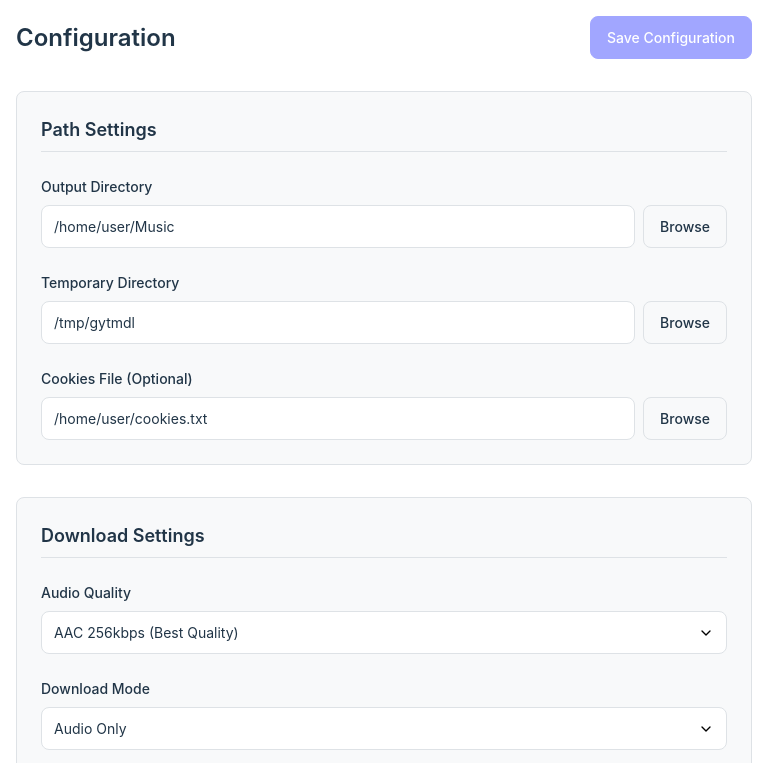
Scenario: ConfigEditor Component › shows success message after saving
Note: Make a change and save
Replace the text in the field showing "/home/user/Music" with "/new/path" at (338, 226), box [41,205,635,248]
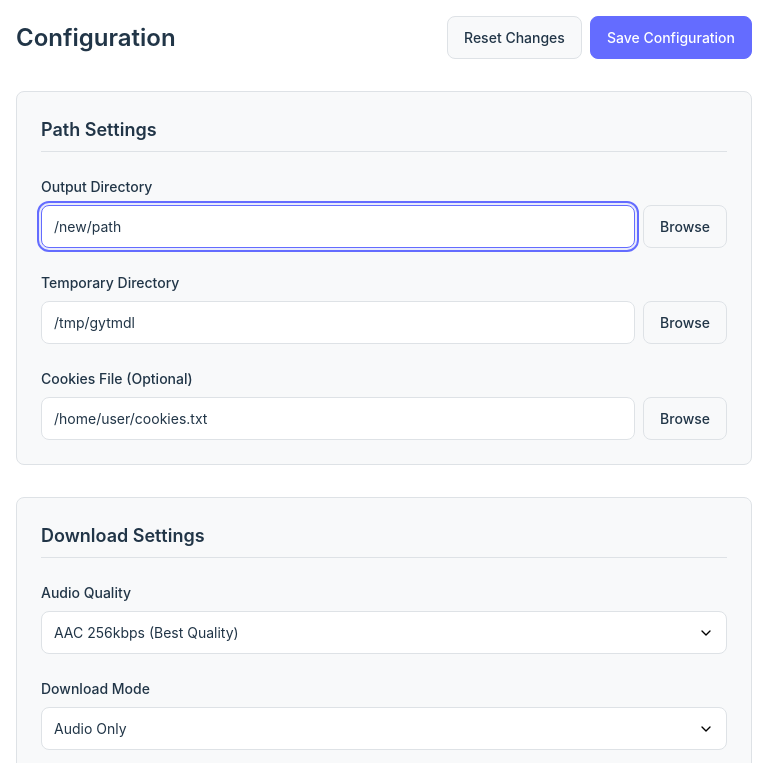
Click the button "Save Configuration" at (671, 38), box [590,16,752,59]
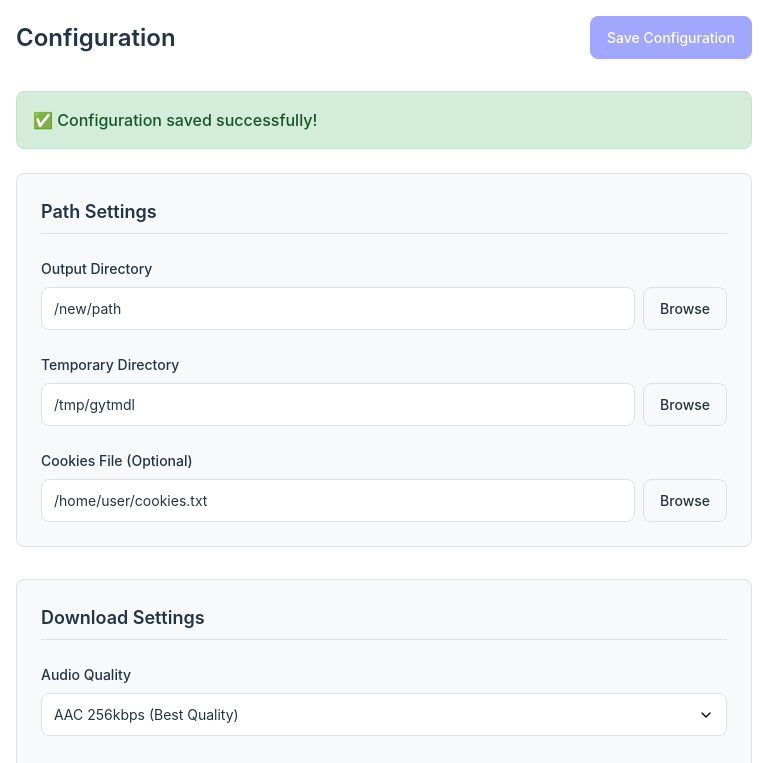
Result: the text "✅ Configuration saved successfully!" is shown at [16,91,752,149]
